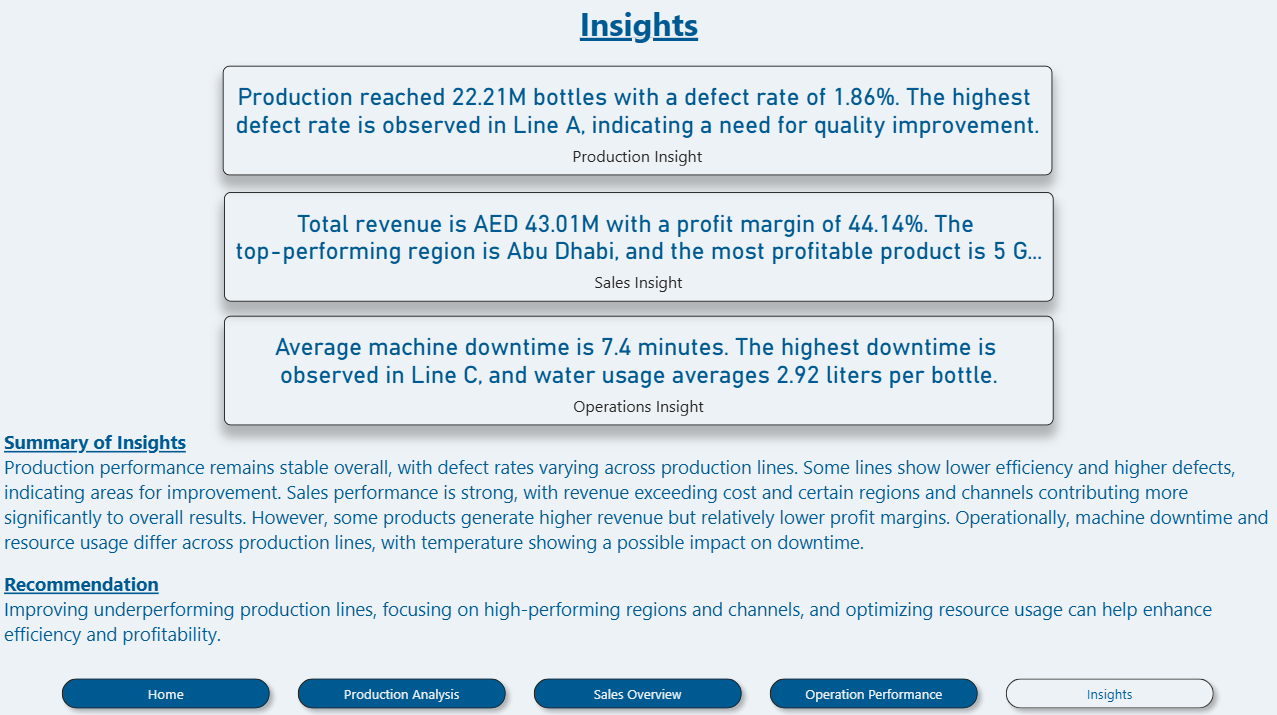

The dashboard page shown, as its layout file describes it:
{"tool":"powerbi","page":{"name":"Insights","canvas":[1280,720],"ordinal":4},"visuals":[{"type":"card","fields":{"Values":["Rawda_production_sales.Production Insight"]},"box":[224,69.3,829.3,109.3],"z":0},{"type":"textbox","box":[0,428,1280,248],"z":1000},{"type":"card","fields":{"Values":["Rawda_production_sales.Sales Insight"]},"box":[225.3,194.7,829.3,109.3],"z":2000},{"type":"card","fields":{"Values":["Rawda_production_sales.Operations Insight"]},"box":[225.3,318.7,829.3,109.3],"z":3000},{"type":"textbox","box":[0,0,1280,69.3],"z":4000},{"type":"pageNavigator","box":[53.3,672,1170.7,48],"z":5000}]}

Visuals, with their boxes in screenshot pixels (x1, y1, x2, y2), scaled from the page's 1280x720 canvas onto the 1277x715 screenshot:
card - Rawda_production_sales.Production Insight: (223,69,1051,177)
textbox: (0,425,1276,671)
card - Rawda_production_sales.Sales Insight: (225,193,1052,302)
card - Rawda_production_sales.Operations Insight: (225,316,1052,425)
textbox: (0,0,1276,69)
pageNavigator: (53,667,1221,714)
